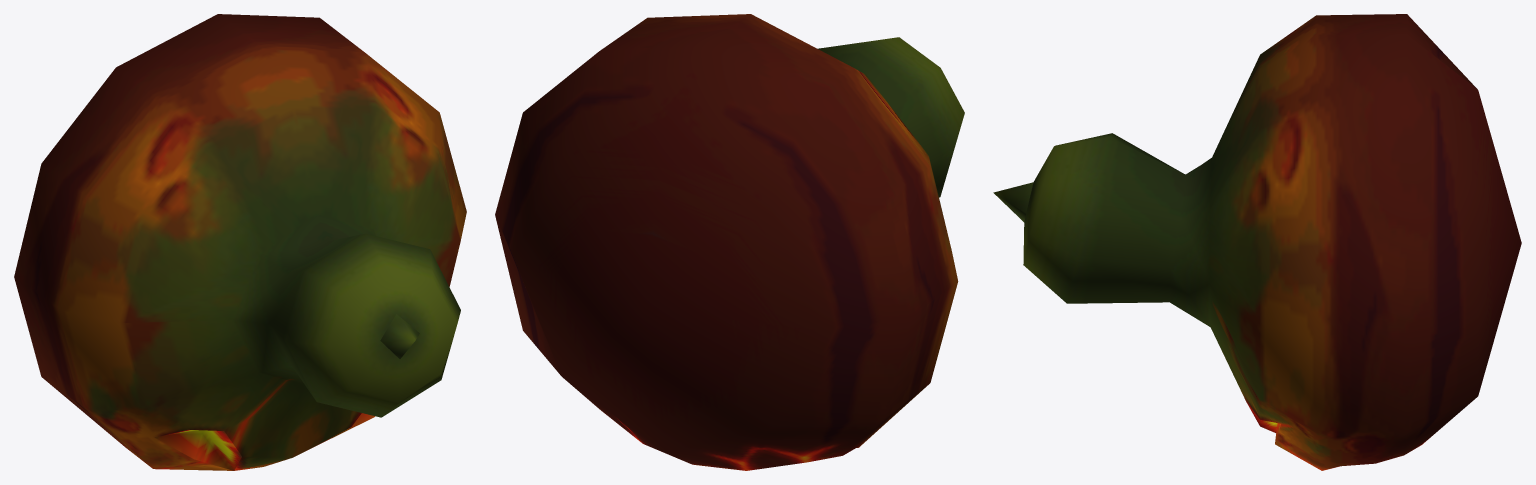
The model's file is mesh_pmpkn.glb.
The picture shows the model from 3 angles, left to right: view 1: azimuth 30°, elevation 25°; view 2: azimuth 150°, elevation 25°; view 3: azimuth 270°, elevation 25°; orthographic projection. The views are drawn at different scales.
Parts seen in each view (by area): view 1: pmk.mesh_pmpkn-MeshNodes["mesh_pumpkin"]; view 2: pmk.mesh_pmpkn-MeshNodes["mesh_pumpkin"]; view 3: pmk.mesh_pmpkn-MeshNodes["mesh_pumpkin"].
Boxes of the visible parts, left/top/right/bottom form: pmk.mesh_pmpkn-MeshNodes["mesh_pumpkin"]: left=14, top=14, right=466, bottom=470; pmk.mesh_pmpkn-MeshNodes["mesh_pumpkin"]: left=495, top=14, right=964, bottom=470; pmk.mesh_pmpkn-MeshNodes["mesh_pumpkin"]: left=993, top=14, right=1521, bottom=470.
Size of the model in its own units: 1.04 by 1.02 by 1.19.
1 material, 1 textured.
